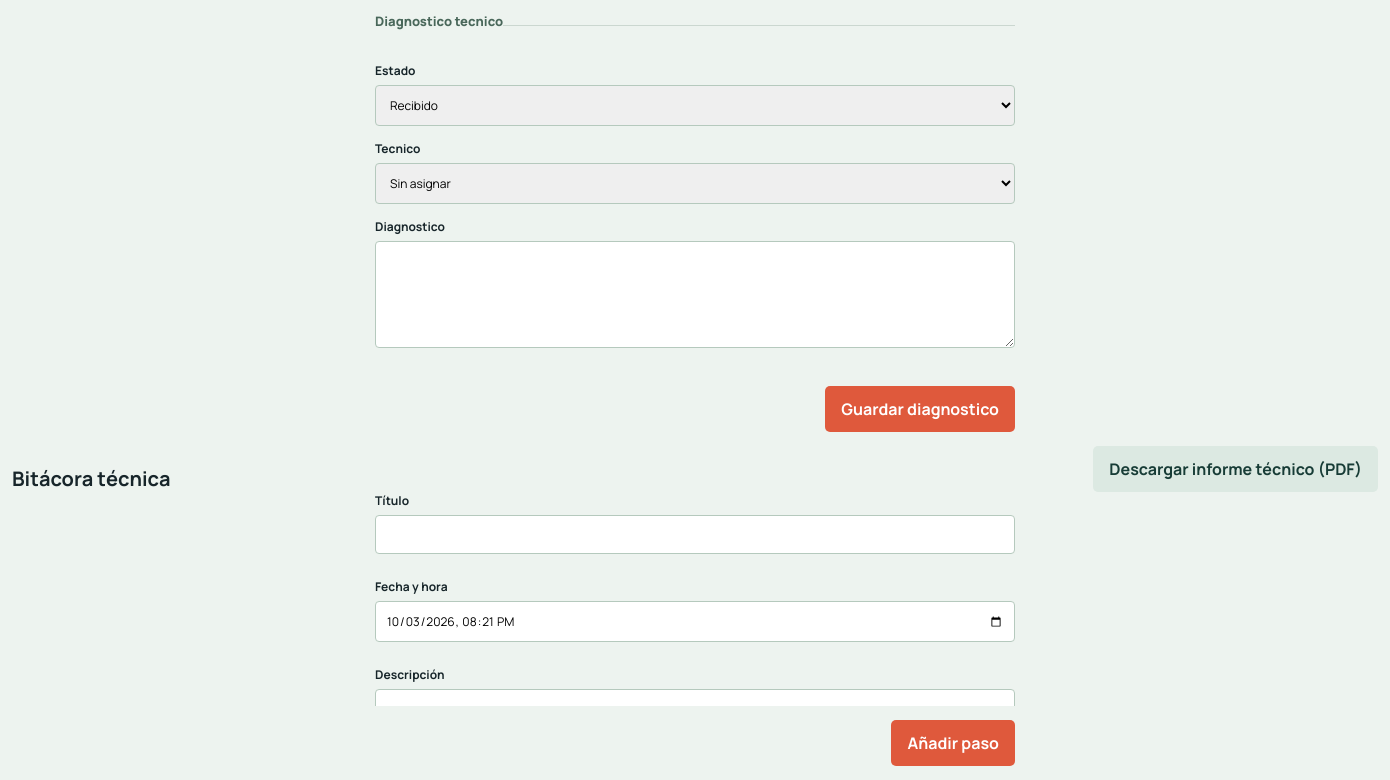
Scenario: pestaña de diagnostico tecnico › muestra el motivo del rechazo y devuelve el select al estado real
The image size is (1390, 780).
Select "En diagnóstico" in the dropdown labelled "Estado": (695, 106) [375,85,1015,126]
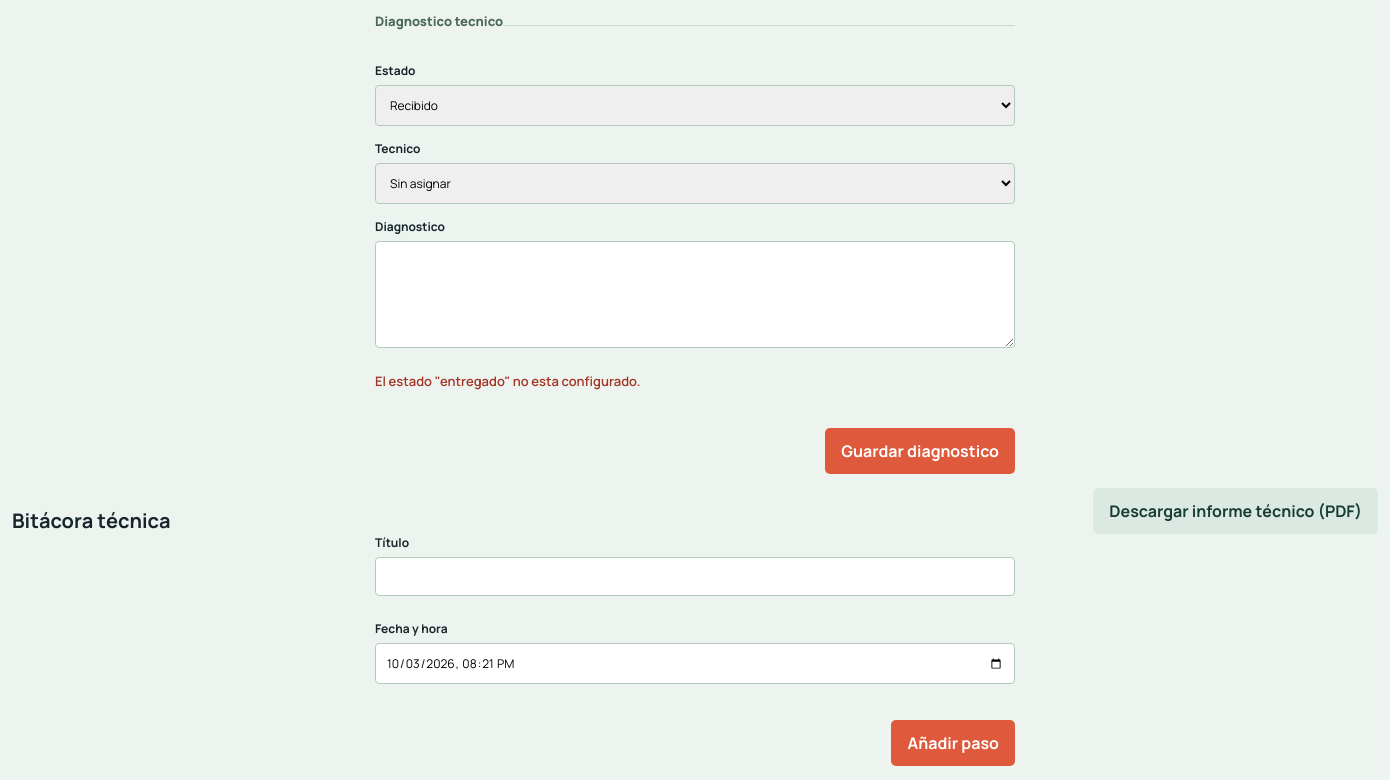
Expected: the text with class "error" reads "El estado \"entregado\" no esta configurado.", [375,372,640,390]
